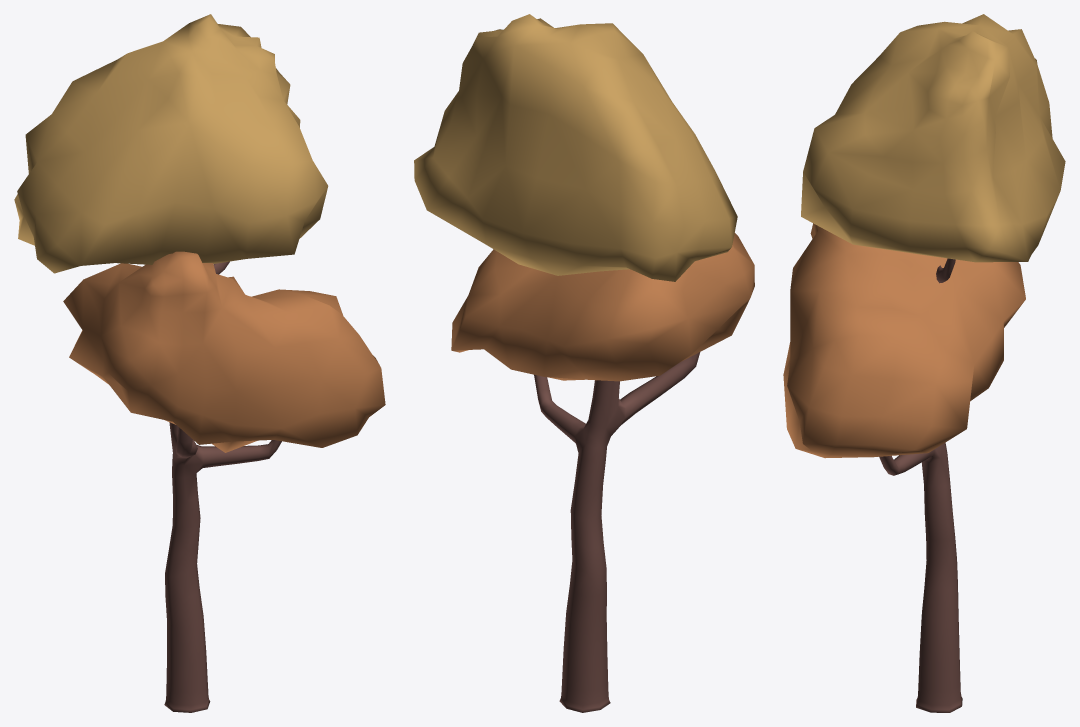
Rendered from CommonTree_Autumn_3.glb.
The picture shows the model from 3 angles, left to right: view 1: azimuth 30°, elevation 25°; view 2: azimuth 150°, elevation 25°; view 3: azimuth 270°, elevation 25°; orthographic projection. The views are drawn at different scales.
Parts seen in each view (by area): view 1: CommonTree_Autumn_3; view 2: CommonTree_Autumn_3; view 3: CommonTree_Autumn_3.
Boxes of the visible parts, bbox=[...] form: CommonTree_Autumn_3: bbox=[14, 14, 385, 712]; CommonTree_Autumn_3: bbox=[414, 14, 754, 712]; CommonTree_Autumn_3: bbox=[783, 14, 1065, 712].
Bounding box in the file's own units: 1.56 × 3.46 × 1.28.
